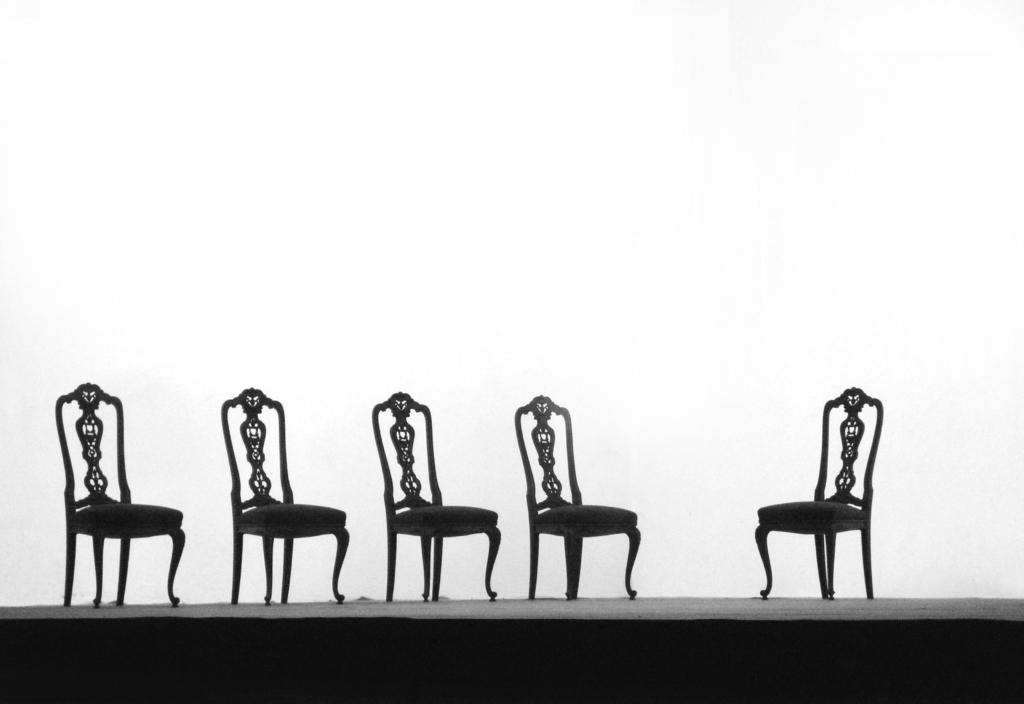Chair: (52, 378, 189, 605), (212, 387, 353, 607), (369, 387, 502, 606), (750, 385, 886, 598), (514, 394, 643, 601)
